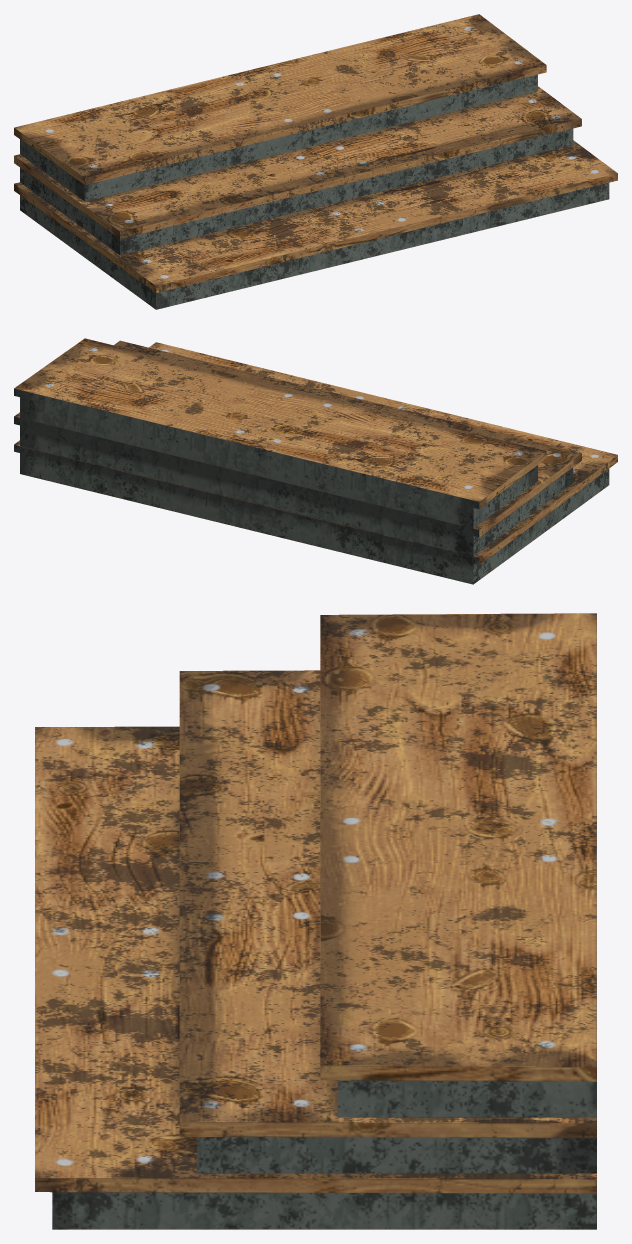
The model's file is stairs.fbx.
3 views of the same model, one above another, from view 1: azimuth 30°, elevation 25°; view 2: azimuth 150°, elevation 25°; view 3: azimuth 270°, elevation 25° (orthographic). The views are drawn at different scales.
Parts seen in each view (by area): view 1: Stairs; view 2: Stairs; view 3: Stairs.
Boxes of the visible parts, left/top/right/bottom form: Stairs: left=14, top=14, right=617, bottom=309; Stairs: left=14, top=338, right=617, bottom=584; Stairs: left=35, top=613, right=596, bottom=1229.
Size of the model in its own units: 496 by 85.62 by 259.
Materials: 1 (1 with a texture image).
